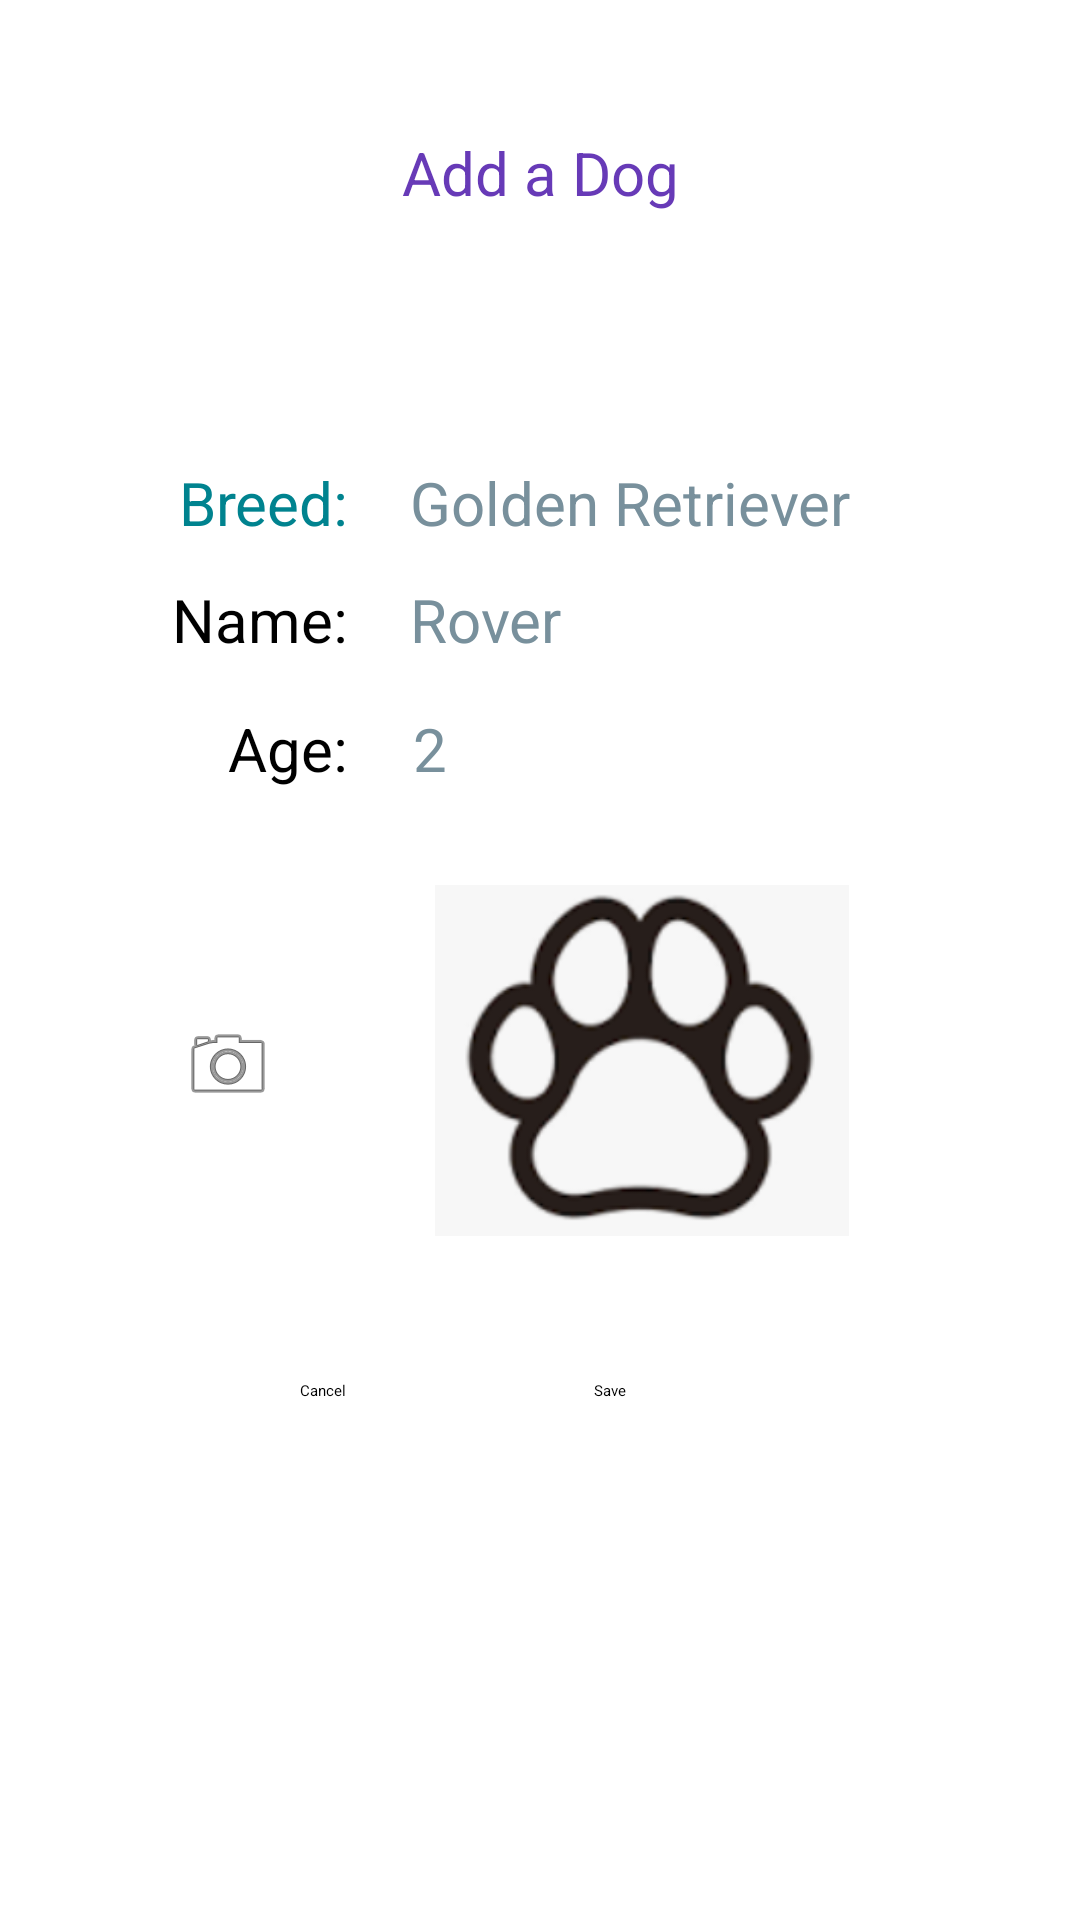

Icon bounding boxes for this 1080x1920 phone screenshot, format (x1, y1, x2, y2):
camera: (191, 1034, 265, 1093)
dogpaw: (466, 895, 814, 1220)
